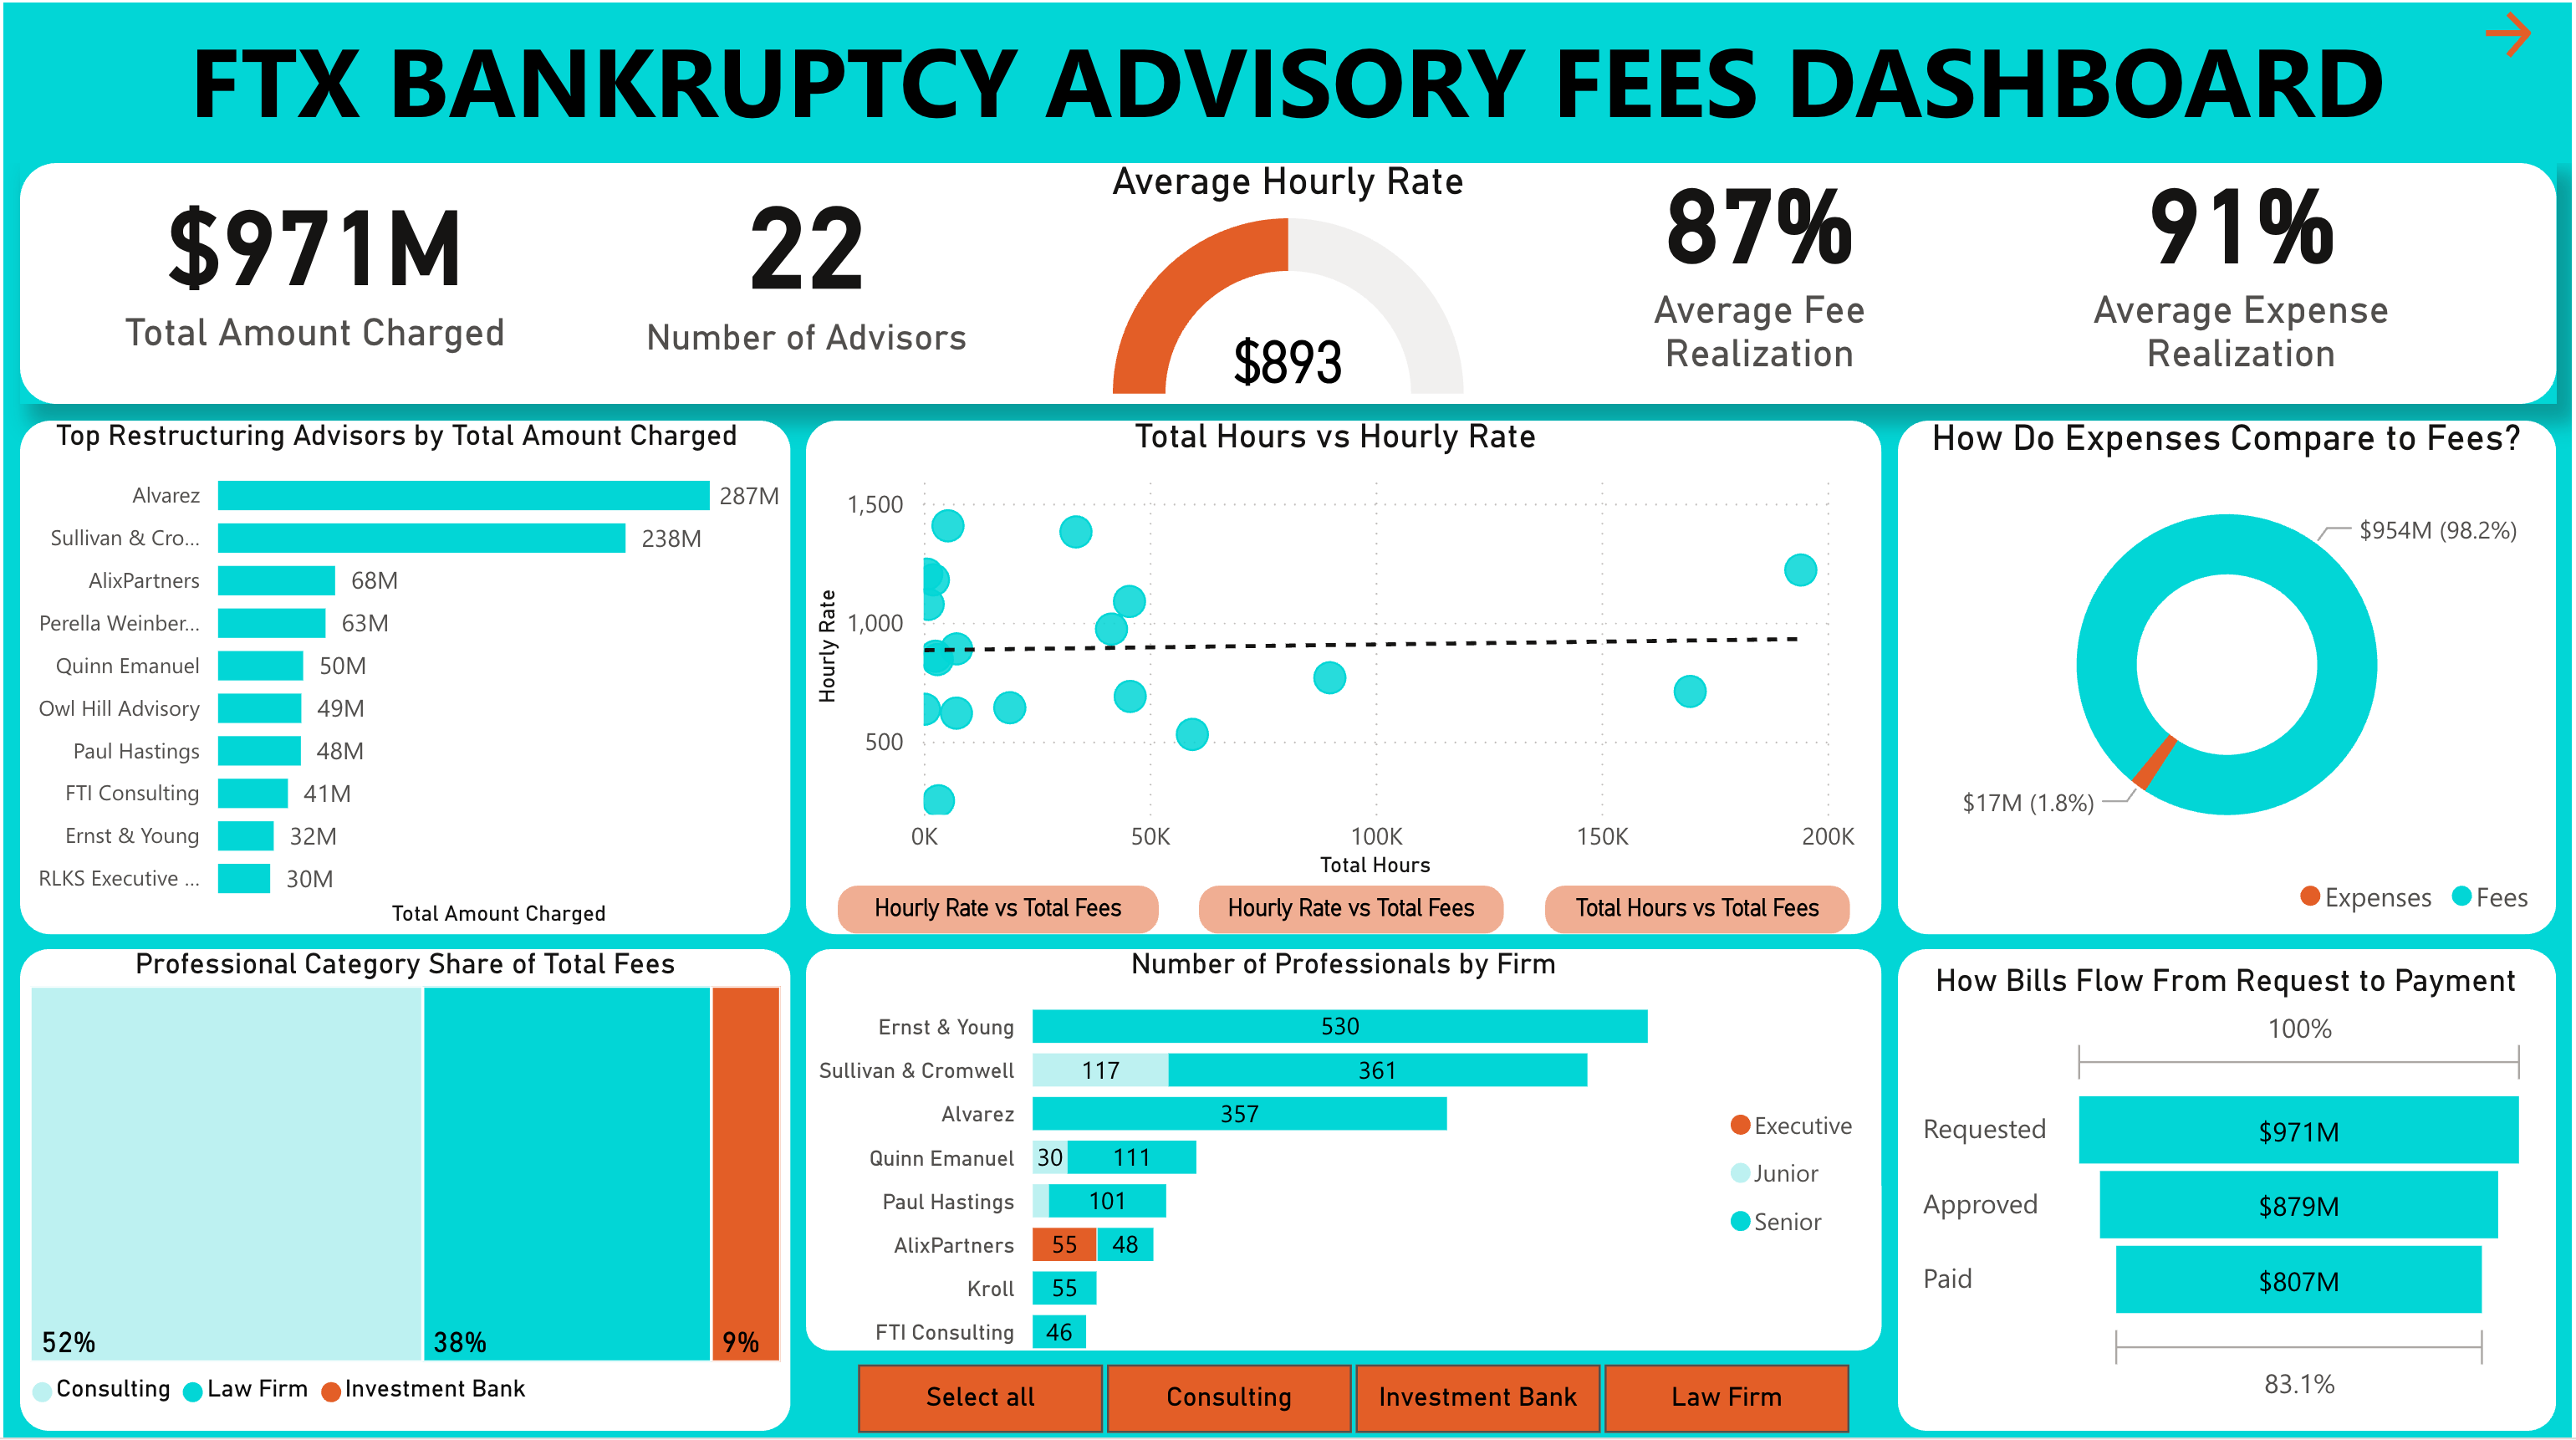

The page's visual inventory and layout, read from the dashboard file:
{"tool":"powerbi","page":{"name":"Advisor","canvas":[1280,720],"ordinal":0},"visuals":[{"type":"shape","box":[8,80,1264,120],"z":0},{"type":"cardVisual","fields":{"Data":["Count(FTX_Advisor_Data.Advisor Name)"]},"box":[283.7,86.9,224,112],"z":1000},{"type":"shape","box":[8,208,384,504],"z":2000},{"type":"cardVisual","fields":{"Data":["Sum(FTX_Advisor_Data.Total Requested)"]},"box":[43.7,86.9,224,112],"z":3000},{"type":"shape","box":[400,208,536,256],"z":4000},{"type":"shape","box":[400,472,536,200],"z":5000},{"type":"cardVisual","fields":{"Data":["Avg(coy_category.Fee Realization)"]},"box":[763.7,86.9,224,112],"z":6000},{"type":"shape","box":[944,208,328,256],"z":7000},{"type":"donutChart","title":"How do expenses compare with fees?","fields":{"Y":["Sum(FTX_Advisor_Data.Expenses Requested)","Sum(FTX_Advisor_Data.Fee Requested)"]},"box":[944,224,320,240],"z":8000},{"type":"cardVisual","fields":{"Data":["Avg(coy_category.Expense Realization)"]},"box":[1003.7,86.9,224,112],"z":9000},{"type":"shape","box":[944,472,328,240],"z":10000},{"type":"funnel","title":"How bills filter into actual payment","fields":{"Y":["Sum(FTX_Advisor_Data.Total Requested)","Sum(FTX_Advisor_Data.Total Approved)","Sum(FTX_Advisor_Data.Total Paid)"]},"box":[952,480,312,224],"z":11000},{"type":"barChart","title":"Top Earning Restructuring Advisors ","fields":{"Category":["coy_category.ADVISOR"],"Y":["Sum(coy_category.Total Amount)"]},"box":[0,208,400,504],"z":12000},{"type":"barChart","title":"Number of professionals who worked on this bankruptcy","fields":{"Category":["Main1.Advisor"],"Y":["Count(Main1.Professional)"]},"box":[400,472,536,200],"z":13000},{"type":"scatterChart","title":"What factors most influenced advisor bills?","fields":{"X":["Sum(coy_RHF.HOURS)"],"Y":["Avg(coy_RHF.BLENDED RATE)"],"Category":["coy_RHF.ADVISOR"],"Size":["Sum(FTX_Advisor_Data.Total Requested)"]},"box":[400,208,544,256],"z":14000},{"type":"textbox","box":[0,0,1280,80],"z":15000},{"type":"slicer","fields":{"Values":["coy_category.Category"]},"box":[400,672,544,48],"z":16000},{"type":"actionButton","box":[1184,0,96,32],"z":17000},{"type":"gauge","fields":{"Y":["Avg(coy_RHF.BLENDED RATE)"]},"box":[528,80,224,120],"z":18000}]}

Visuals, with their boxes in screenshot pixels (x1, y1, x2, y2), scaled from the page's 1280x720 canvas onto the 2576x1440 screenshot:
shape: 16:160:2560:400
cardVisual - Count(FTX_Advisor_Data.Advisor Name): 571:174:1022:398
shape: 16:416:789:1424
cardVisual - Sum(FTX_Advisor_Data.Total Requested): 88:174:538:398
shape: 805:416:1884:928
shape: 805:944:1884:1344
cardVisual - Avg(coy_category.Fee Realization): 1537:174:1987:398
shape: 1900:416:2560:928
"How do expenses compare with fees?" donutChart: 1900:448:2543:928
cardVisual - Avg(coy_category.Expense Realization): 2020:174:2471:398
shape: 1900:944:2560:1424
"How bills filter into actual payment" funnel: 1915:960:2543:1408
"Top Earning Restructuring Advisors " barChart: 0:416:805:1424
"Number of professionals who worked on this bankruptcy" barChart: 805:944:1884:1344
"What factors most influenced advisor bills?" scatterChart: 805:416:1900:928
textbox: 0:0:2575:160
slicer - coy_category.Category: 805:1344:1900:1439
actionButton: 2383:0:2575:64
gauge - Avg(coy_RHF.BLENDED RATE): 1063:160:1513:400
